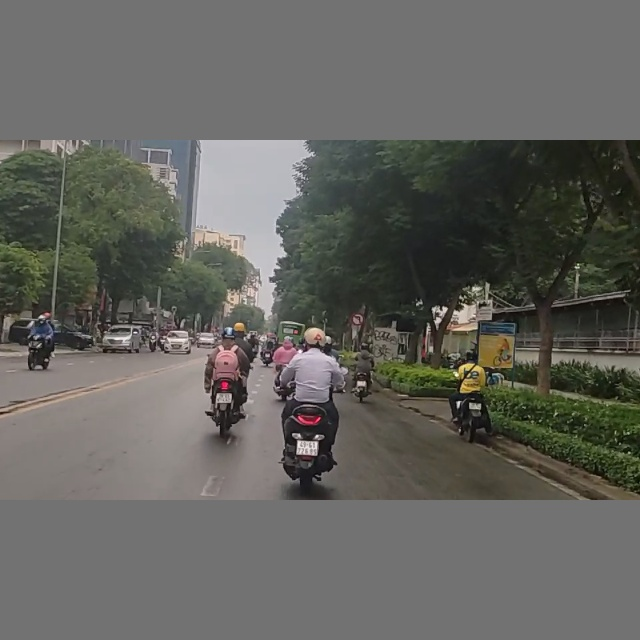P.123a: (350, 312, 365, 326)
